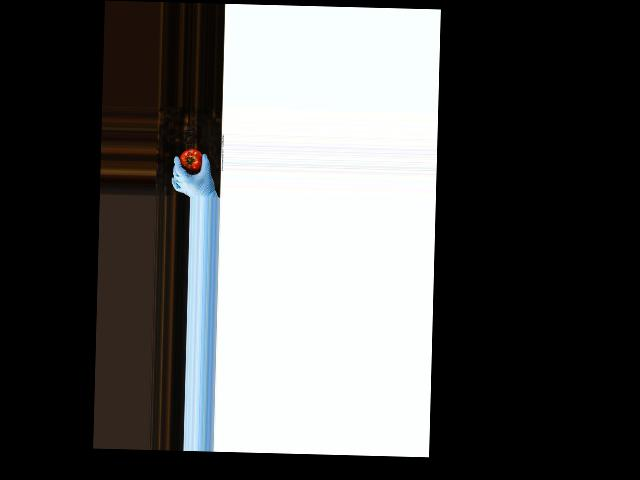tomato: (179, 147, 202, 173)
